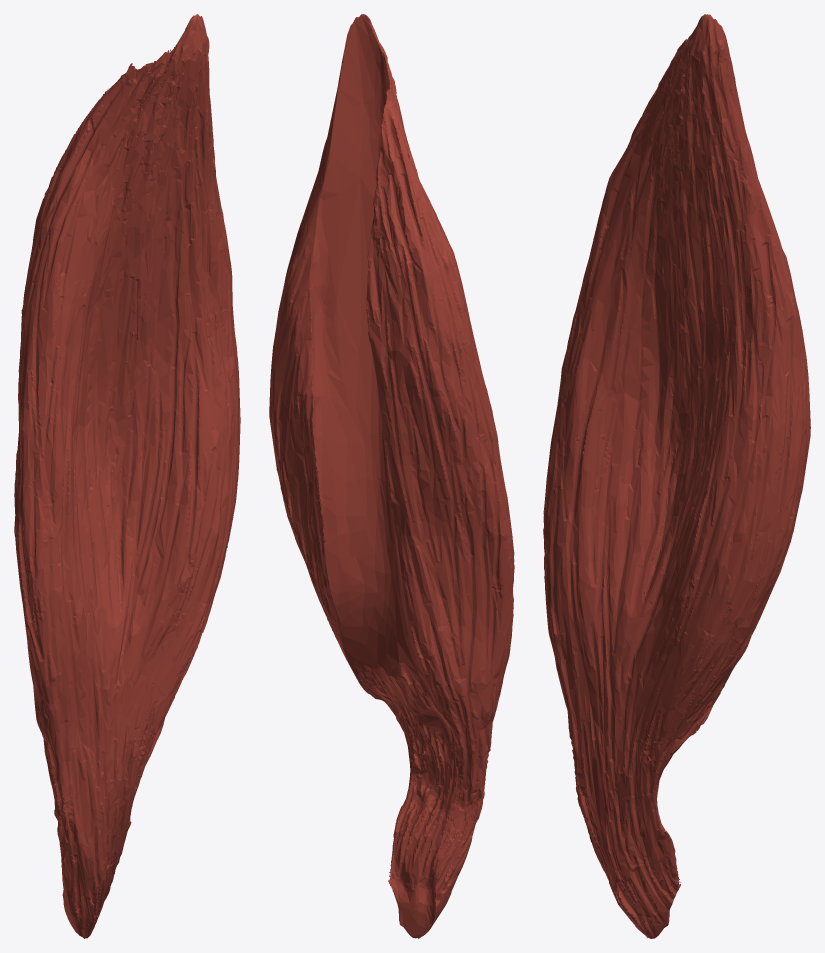
Rendered from brachialis_right.glb.
3 renders of one model, left to right at view 1: azimuth 30°, elevation 25°; view 2: azimuth 150°, elevation 25°; view 3: azimuth 330°, elevation 25°, orthographic. The views are drawn at different scales.
Size of the model in its own units: 0.0591 by 0.2249 by 0.0268.
